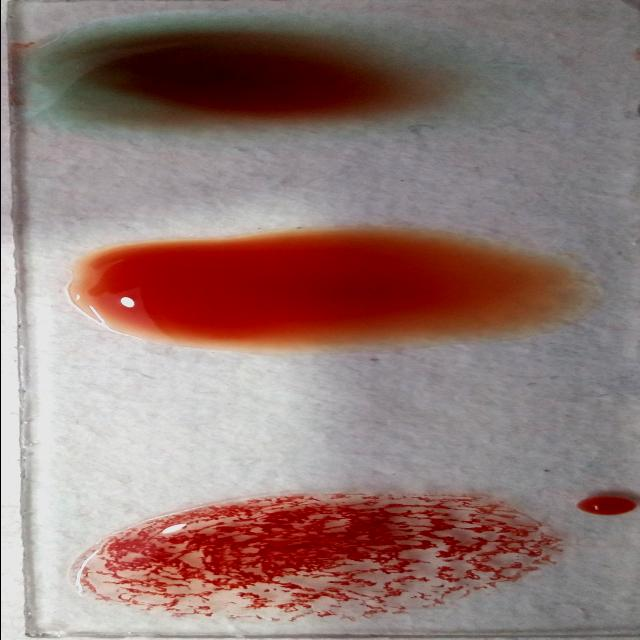D: (76, 492, 546, 620)
